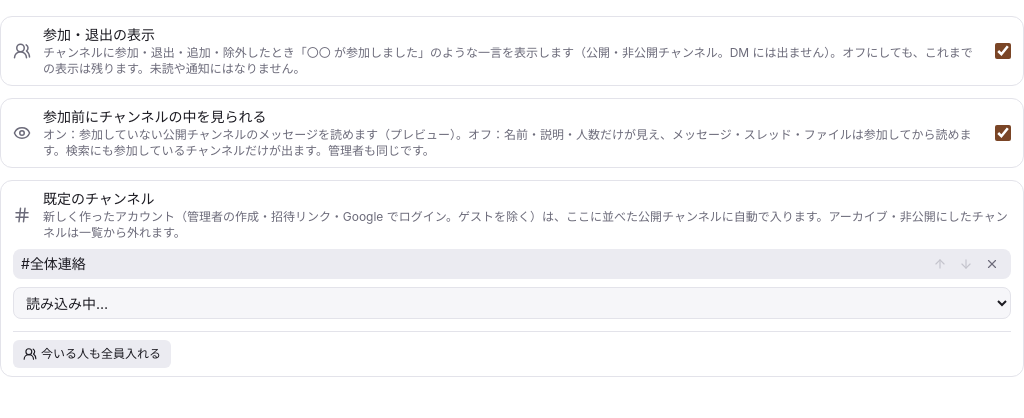
既定のチャンネル › says so when everyone is already in, without asking
Click the button "今いる人も全員入れる" at (92, 354), box [13,340,171,368]
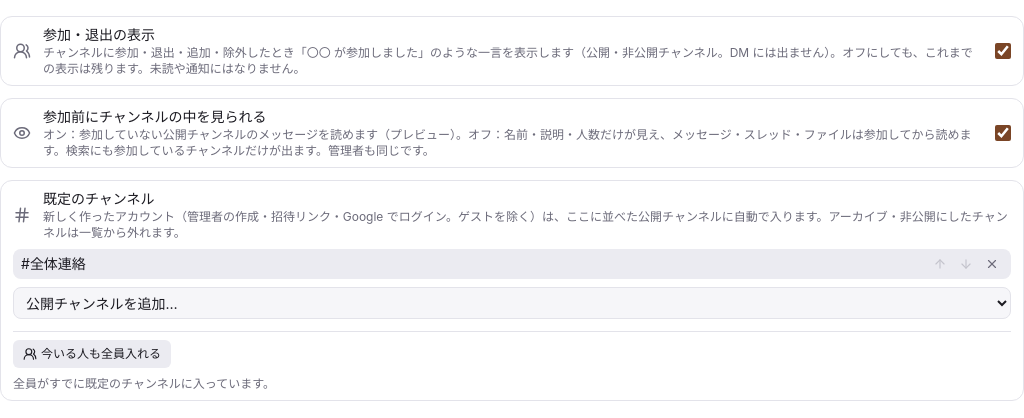
Expected: the message reads "全員がすでに既定のチャンネルに入っています。", [13,376,275,391]
